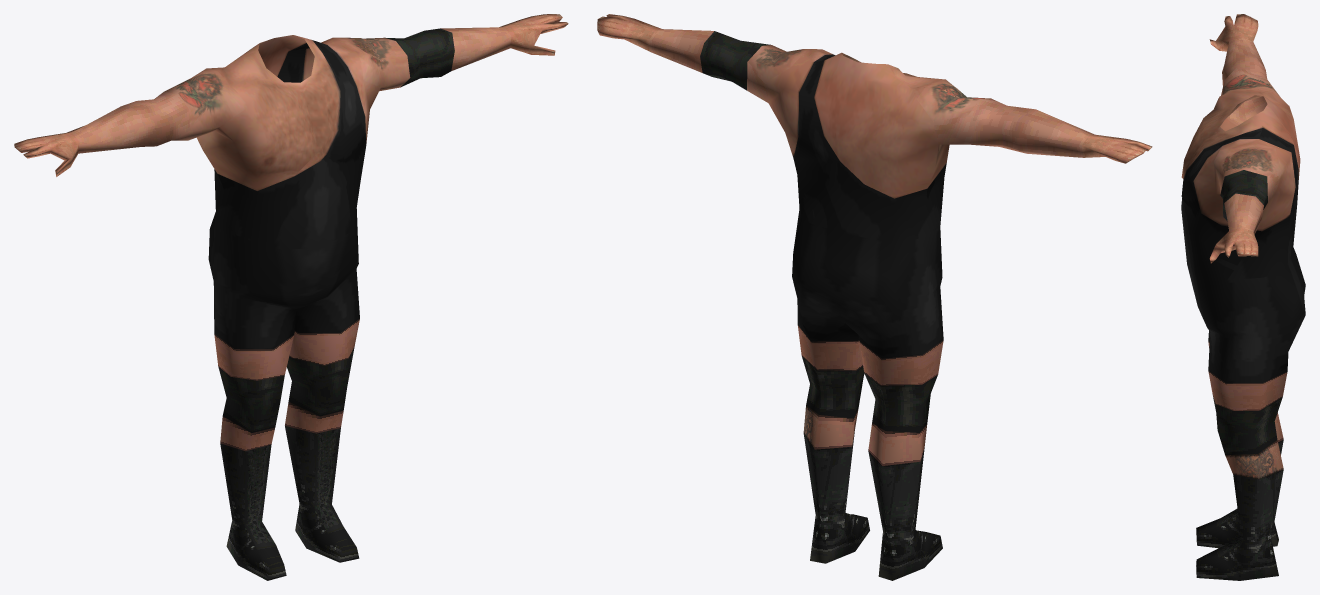
Rendered from Bigshow_B.obj.
3 views of the same model, side by side, from view 1: azimuth 30°, elevation 25°; view 2: azimuth 150°, elevation 25°; view 3: azimuth 270°, elevation 25° (orthographic). The views are drawn at different scales.
Parts seen in each view (by area): view 1: Bigshow_B.001; view 2: Bigshow_B.001; view 3: Bigshow_B.001.
Part boxes in pixels (box(x1,y1,x2,y2)): Bigshow_B.001: box(14, 14, 568, 580); Bigshow_B.001: box(597, 14, 1152, 580); Bigshow_B.001: box(1181, 14, 1305, 580).
Size of the model in its own units: 19.18 by 16.95 by 4.21.
11 materials, 11 textured.
